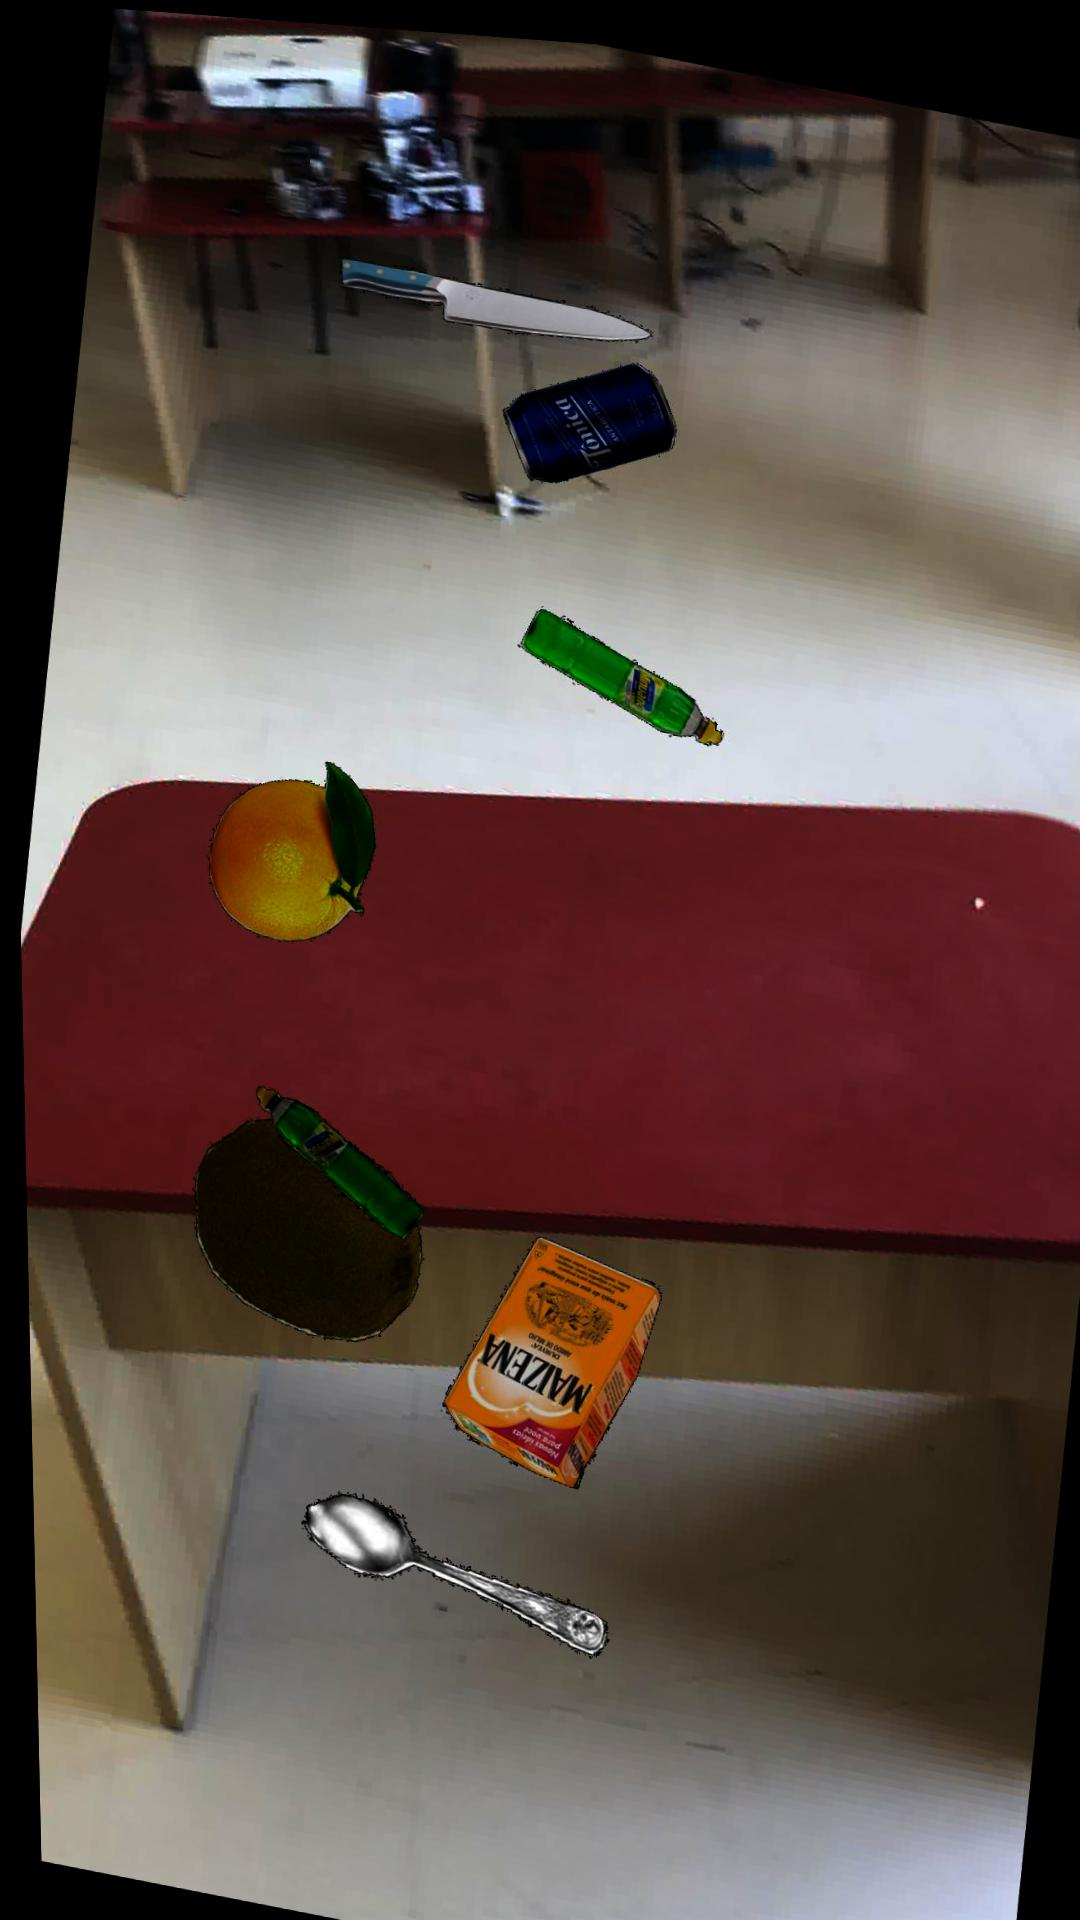cleaner: (520, 599, 721, 733), (252, 1081, 419, 1232)
kiwi: (190, 1113, 418, 1336)
knife: (340, 251, 651, 330)
orange: (206, 756, 372, 936)
spoon: (295, 1487, 601, 1647)
tonic: (502, 352, 675, 472)
